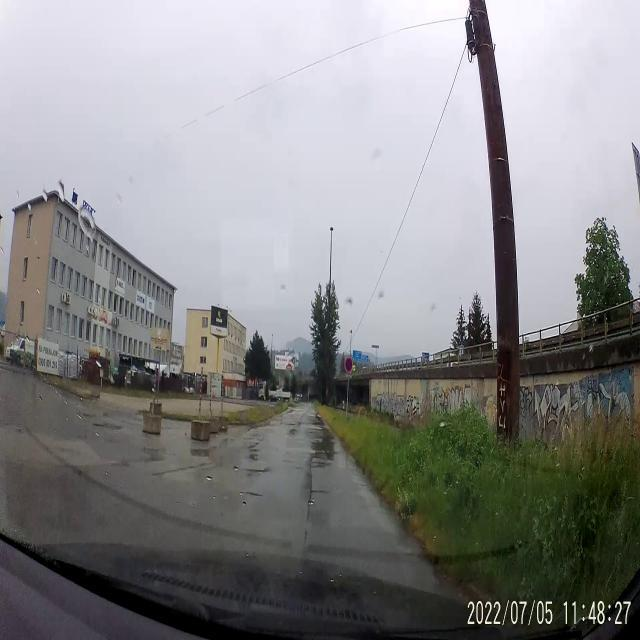Pothole: (304, 482, 334, 514), (308, 453, 332, 472), (93, 418, 121, 433), (243, 484, 263, 504), (240, 464, 272, 475), (246, 439, 258, 463), (287, 424, 301, 440)
